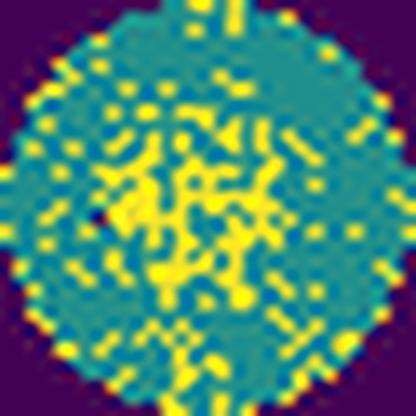Center: (88, 107, 290, 314)
